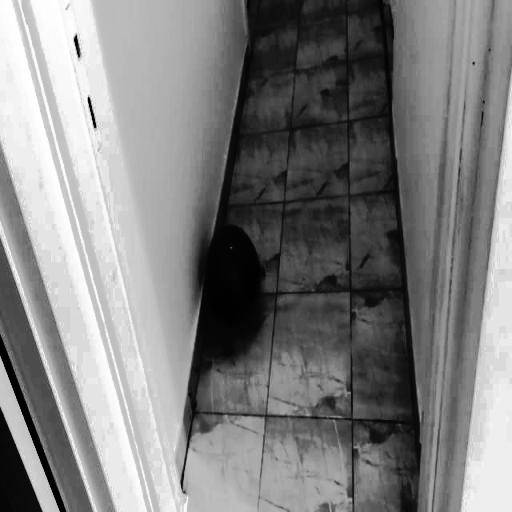balloon: (203, 216, 265, 342)
